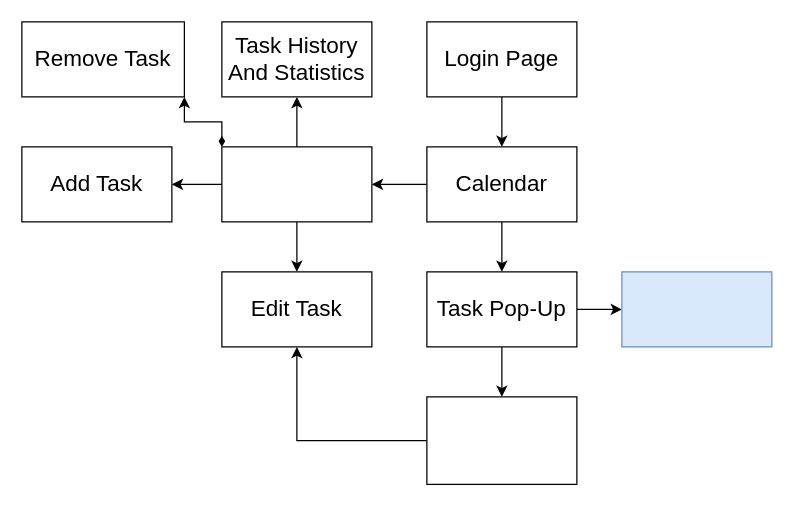
This 794x506 diagram has some shape labels left out. The shapes that lost their labels are listed below. From the top down, each one's centre as x and y in pixels, then its label:
At (296,184): "Task Management".
At (696,309): "Leave Comment".
At (501,440): "Edit Button".
